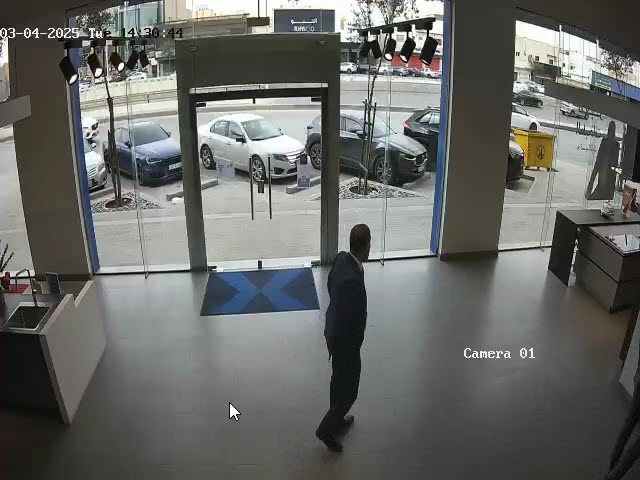employee: (315, 223, 372, 452)
